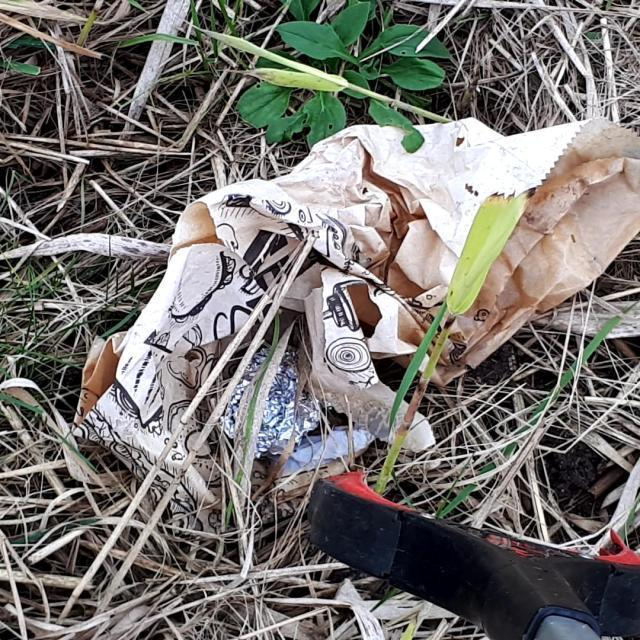Paper: (67, 112, 639, 540)
